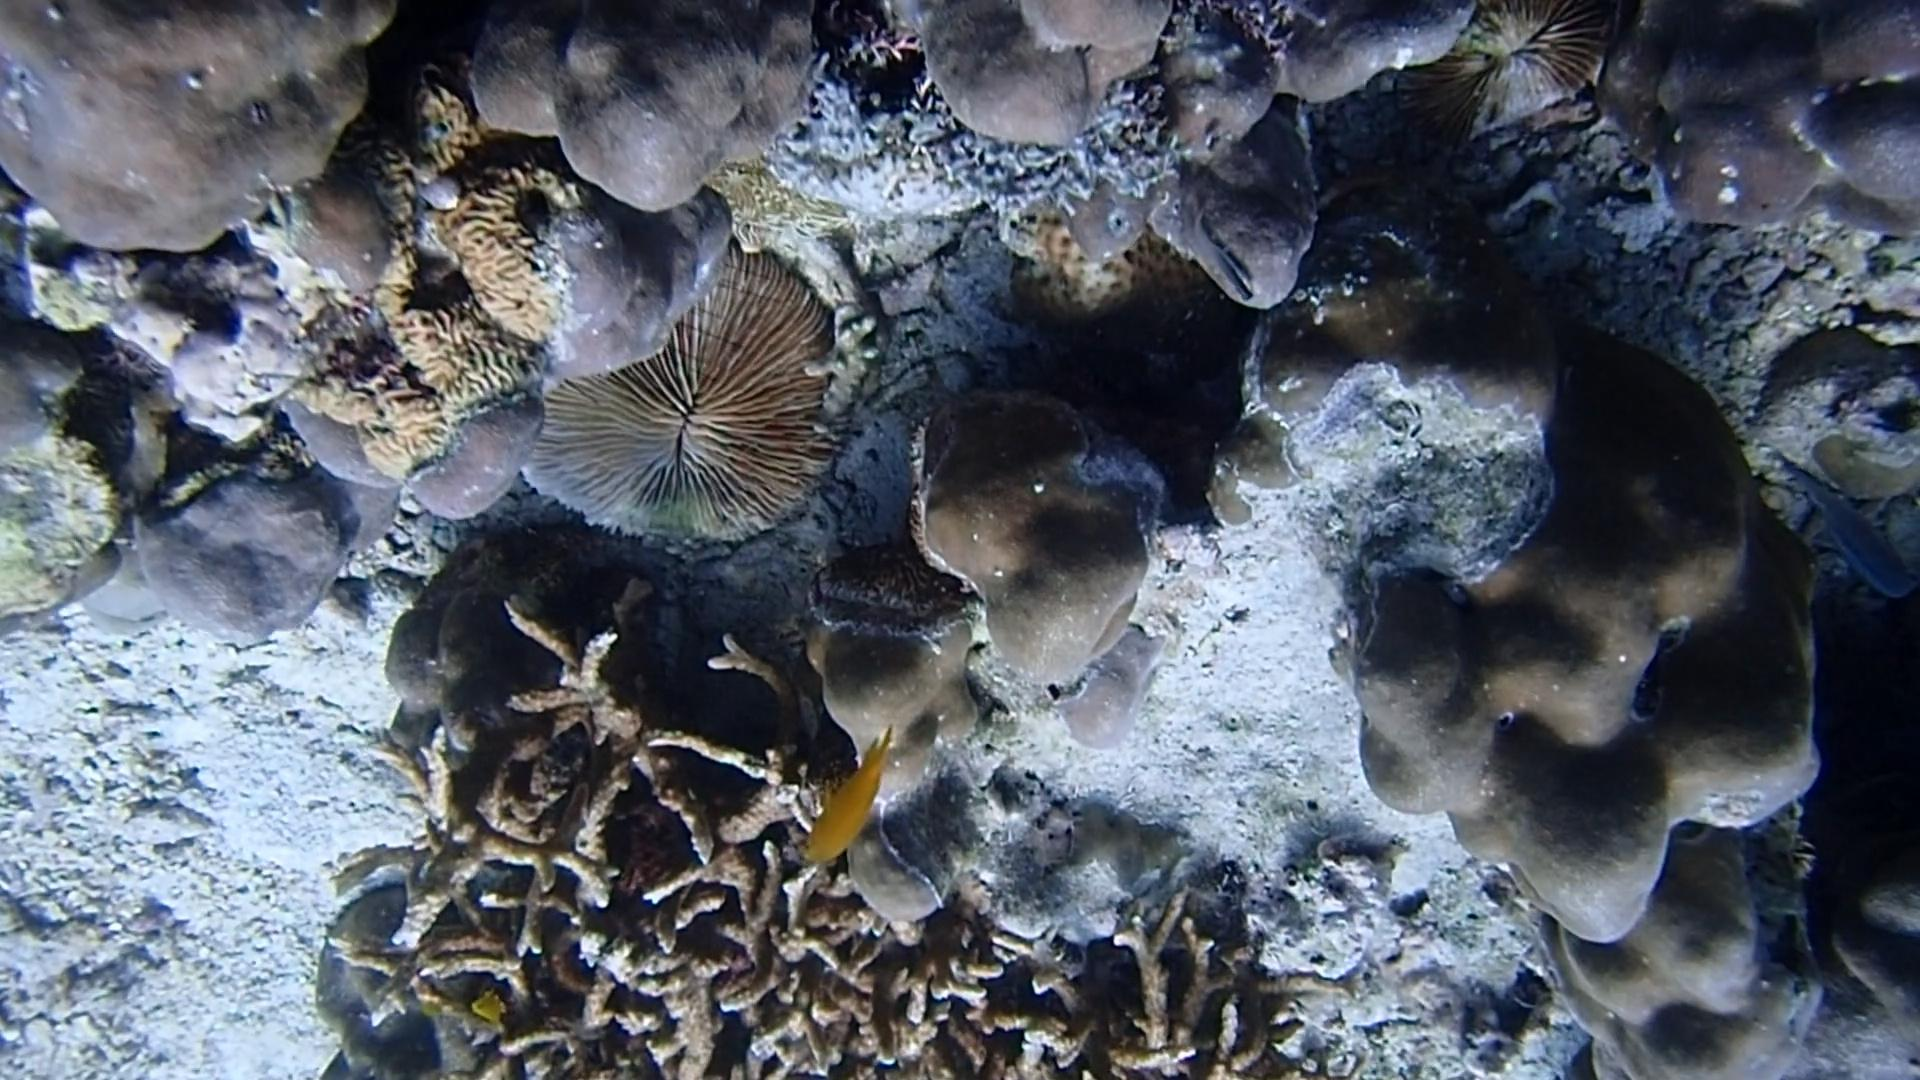Blue Fish Two: (1772, 443, 1919, 607)
Yellow Fish: (781, 729, 913, 874), (465, 980, 516, 1030)
